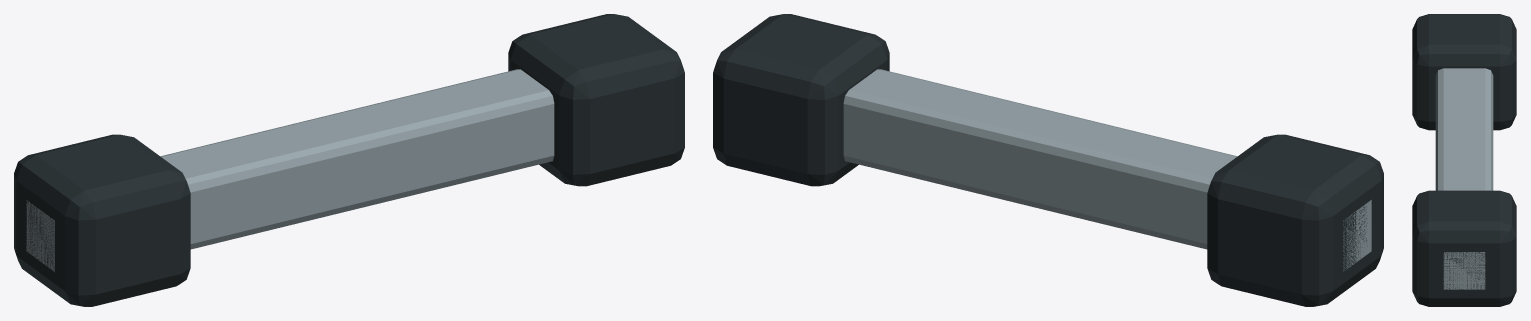
Rendered from SM_TrainCoupler.fbx.
3 renders of one model, left to right at view 1: azimuth 30°, elevation 25°; view 2: azimuth 150°, elevation 25°; view 3: azimuth 270°, elevation 25°, orthographic. The views are drawn at different scales.
Parts seen in each view (by area): view 1: SM_TrainCoupler_UEExport; view 2: SM_TrainCoupler_UEExport; view 3: SM_TrainCoupler_UEExport.
Boxes of the visible parts, x1,y1,x2,y2 form: SM_TrainCoupler_UEExport: [14, 14, 684, 306]; SM_TrainCoupler_UEExport: [713, 14, 1383, 306]; SM_TrainCoupler_UEExport: [1412, 14, 1516, 306].
Bounding box in the file's own units: 100 × 20 × 18.
